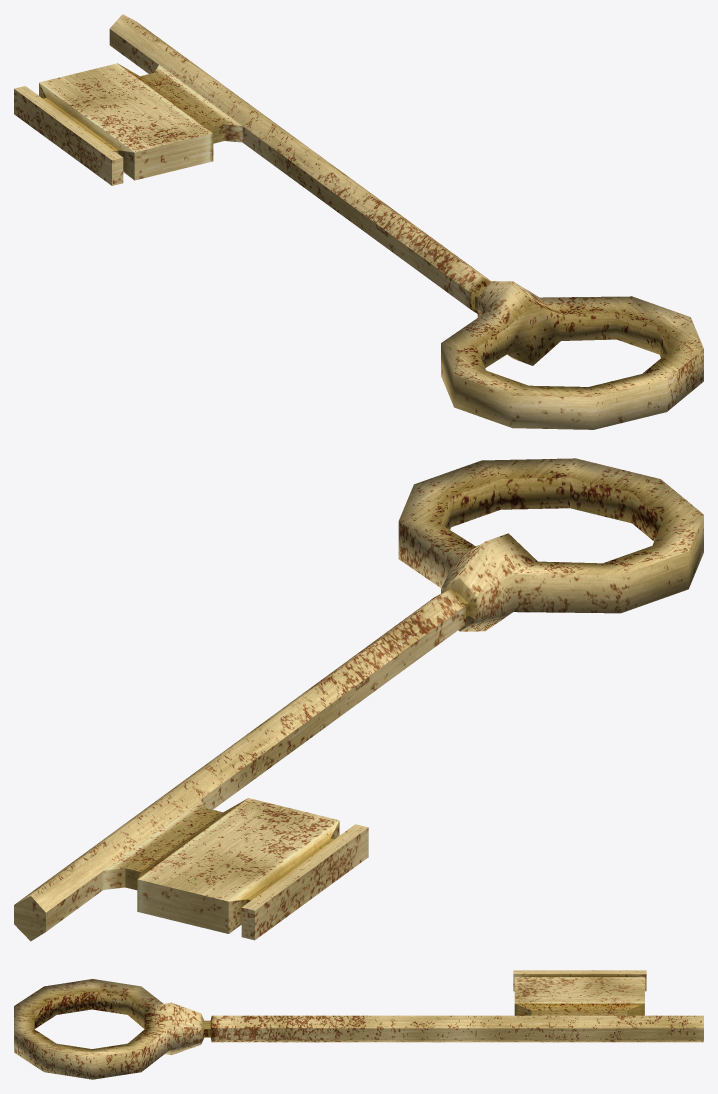
Rendered from Key_For_Room.fbx.
3 renders of one model, top to bottom at view 1: azimuth 30°, elevation 25°; view 2: azimuth 150°, elevation 25°; view 3: azimuth 270°, elevation 25°, orthographic. The views are drawn at different scales.
Visible parts, largest first — view 1: pTorus3; view 2: pTorus3; view 3: pTorus3.
Part boxes in pixels (bbox=[...]): pTorus3: bbox=[14, 14, 703, 429]; pTorus3: bbox=[14, 458, 703, 941]; pTorus3: bbox=[14, 970, 703, 1079].
Bounding box in the file's own units: 3.39 × 0.9315 × 11.04.
